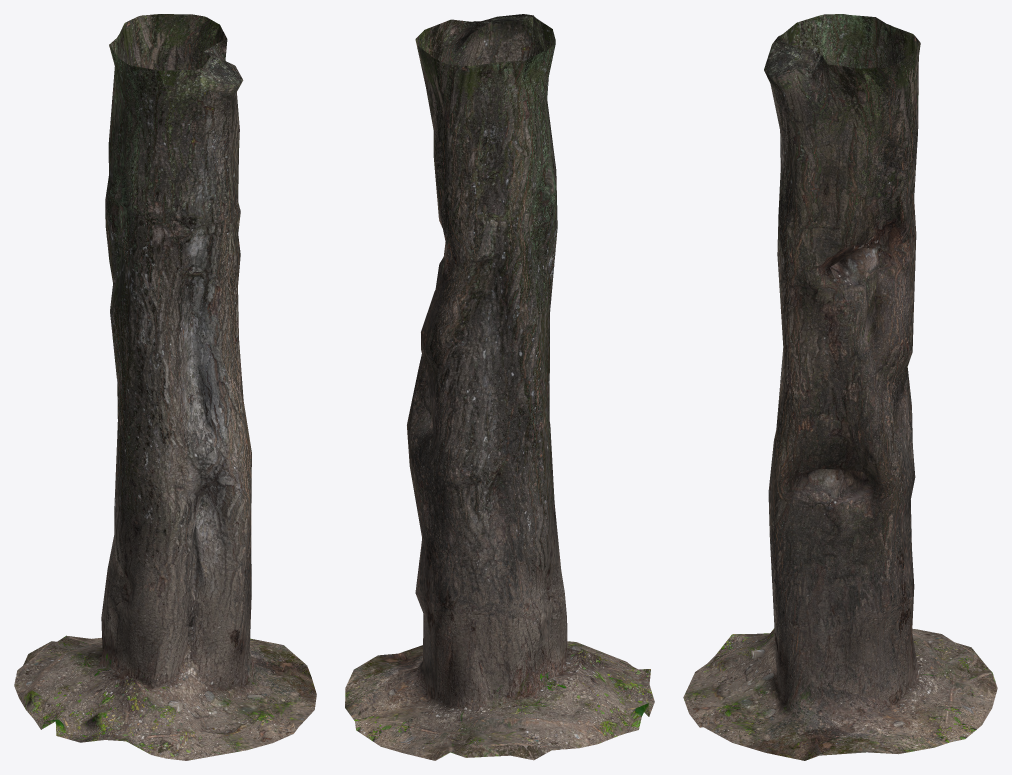
Rendered from PX_Cinnamomum_burmannii_Trunk_01_LOD5.fbx.
The picture shows the model from 3 angles, left to right: view 1: azimuth 30°, elevation 25°; view 2: azimuth 150°, elevation 25°; view 3: azimuth 270°, elevation 25°; orthographic projection. The views are drawn at different scales.
Parts seen in each view (by area): view 1: PX_Cinnamomum_burmannii_Trunk_01_LOD5; view 2: PX_Cinnamomum_burmannii_Trunk_01_LOD5; view 3: PX_Cinnamomum_burmannii_Trunk_01_LOD5.
Boxes of the visible parts, x1,y1,x2,y2 form: PX_Cinnamomum_burmannii_Trunk_01_LOD5: (14, 14, 316, 760); PX_Cinnamomum_burmannii_Trunk_01_LOD5: (345, 14, 654, 760); PX_Cinnamomum_burmannii_Trunk_01_LOD5: (683, 14, 997, 760).
Bounding box in the file's own units: 98.75 × 236 × 101.
